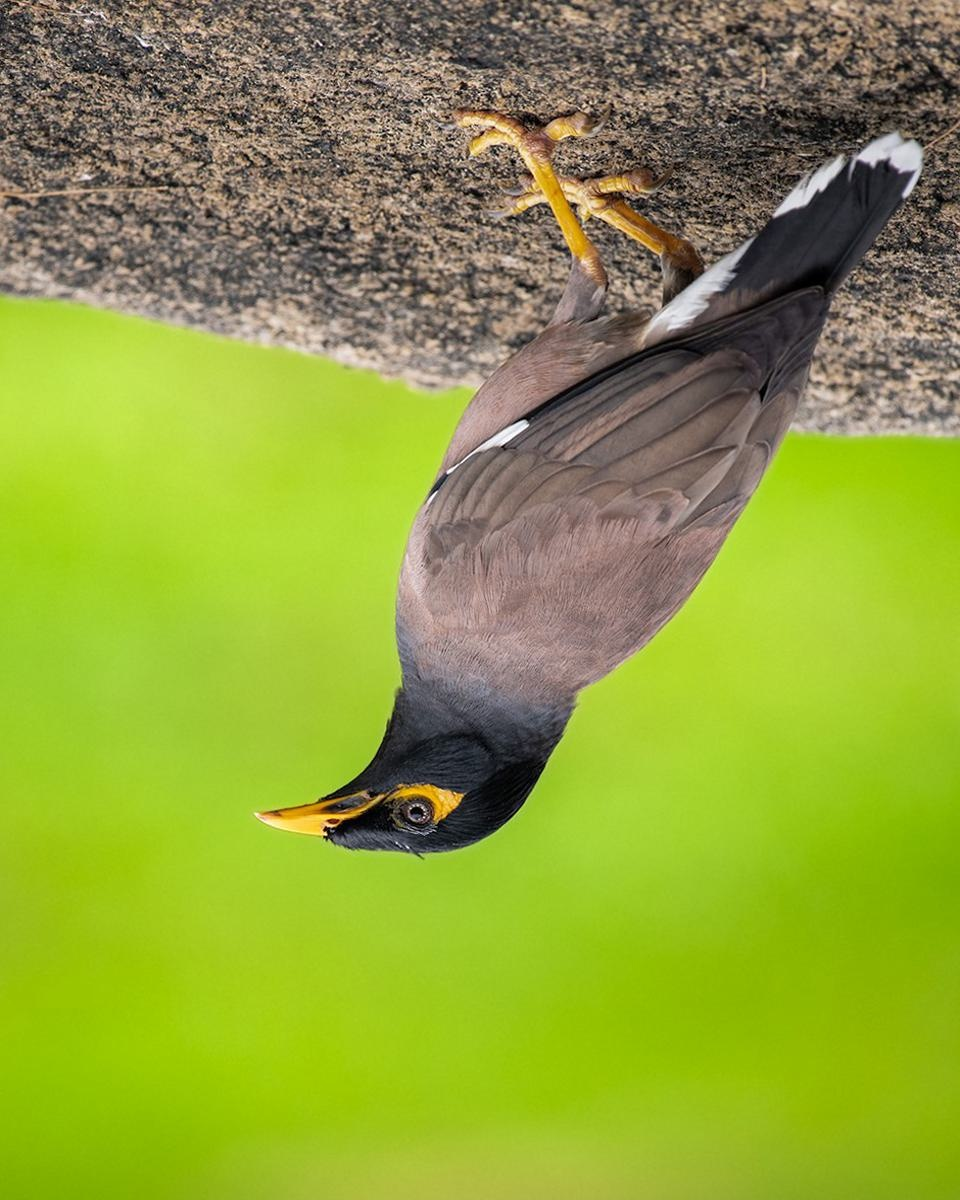myna: (229, 102, 960, 906)
